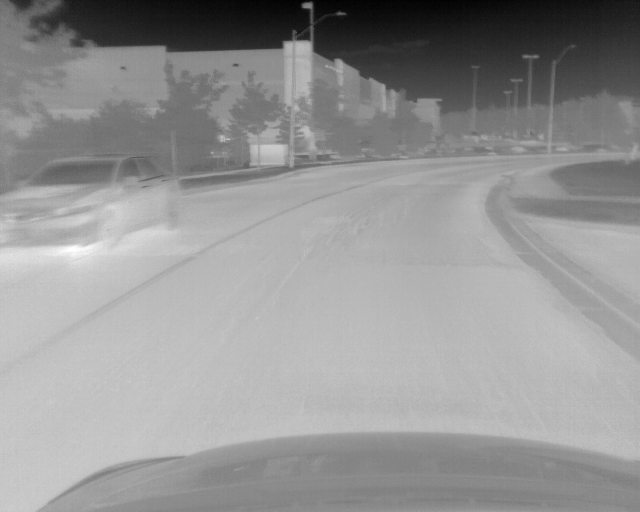car: (1, 153, 184, 249)
